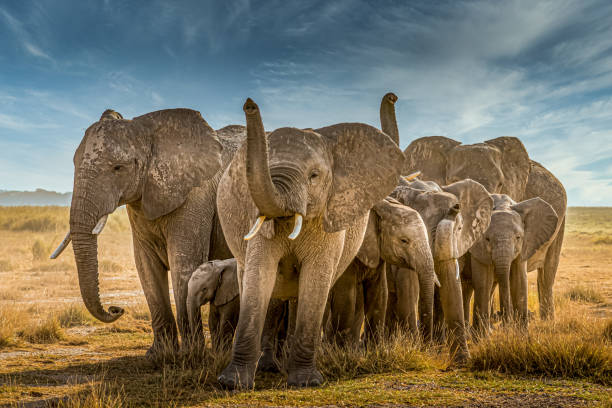africanelephant: (222, 116, 345, 255)
